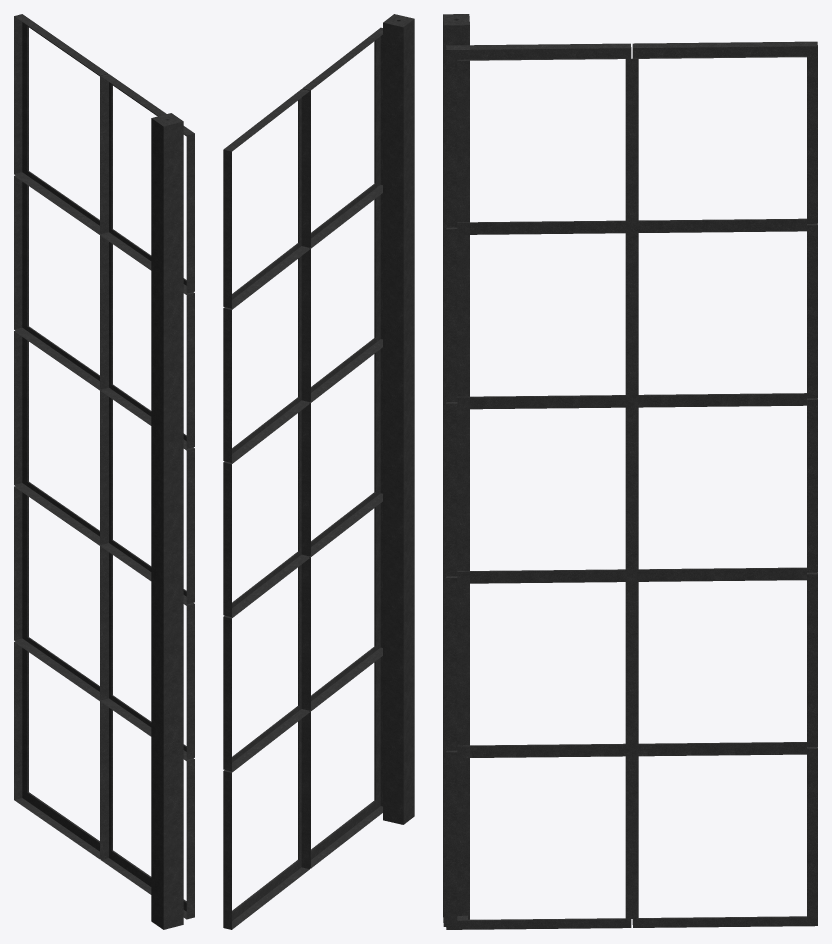
The model's file is puerta_izquierda.obj.
3 views of the same model, side by side, from view 1: azimuth 30°, elevation 25°; view 2: azimuth 150°, elevation 25°; view 3: azimuth 270°, elevation 25° (orthographic). The views are drawn at different scales.
Visible parts, largest first — view 1: puerta_izquierda, puerta_izquierda001; view 2: puerta_izquierda, puerta_izquierda001; view 3: puerta_izquierda, puerta_izquierda001.
Part boxes in pixels (x1,y1,x2,y2): puerta_izquierda: [14, 14, 194, 919]; puerta_izquierda001: [151, 113, 183, 929]; puerta_izquierda: [223, 27, 382, 929]; puerta_izquierda001: [383, 14, 414, 824]; puerta_izquierda: [446, 41, 817, 929]; puerta_izquierda001: [443, 14, 469, 926].
Size of the model in its own units: 7.41 by 164 by 61.68.
